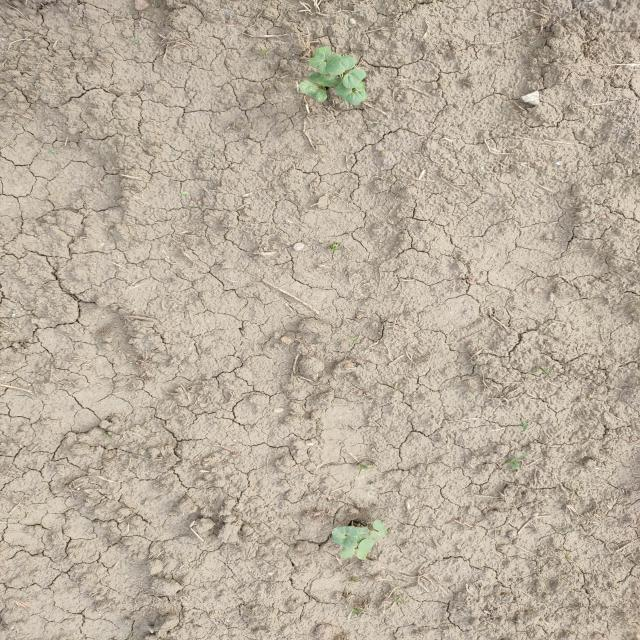seedling_s2: (336, 82, 368, 105), (299, 80, 328, 102), (307, 71, 343, 87), (326, 56, 356, 75), (318, 53, 342, 75), (342, 68, 366, 89), (309, 46, 331, 68), (369, 520, 388, 540), (357, 538, 374, 559), (333, 535, 357, 549), (332, 526, 358, 538), (339, 547, 355, 558), (350, 526, 369, 535), (352, 535, 367, 543)
